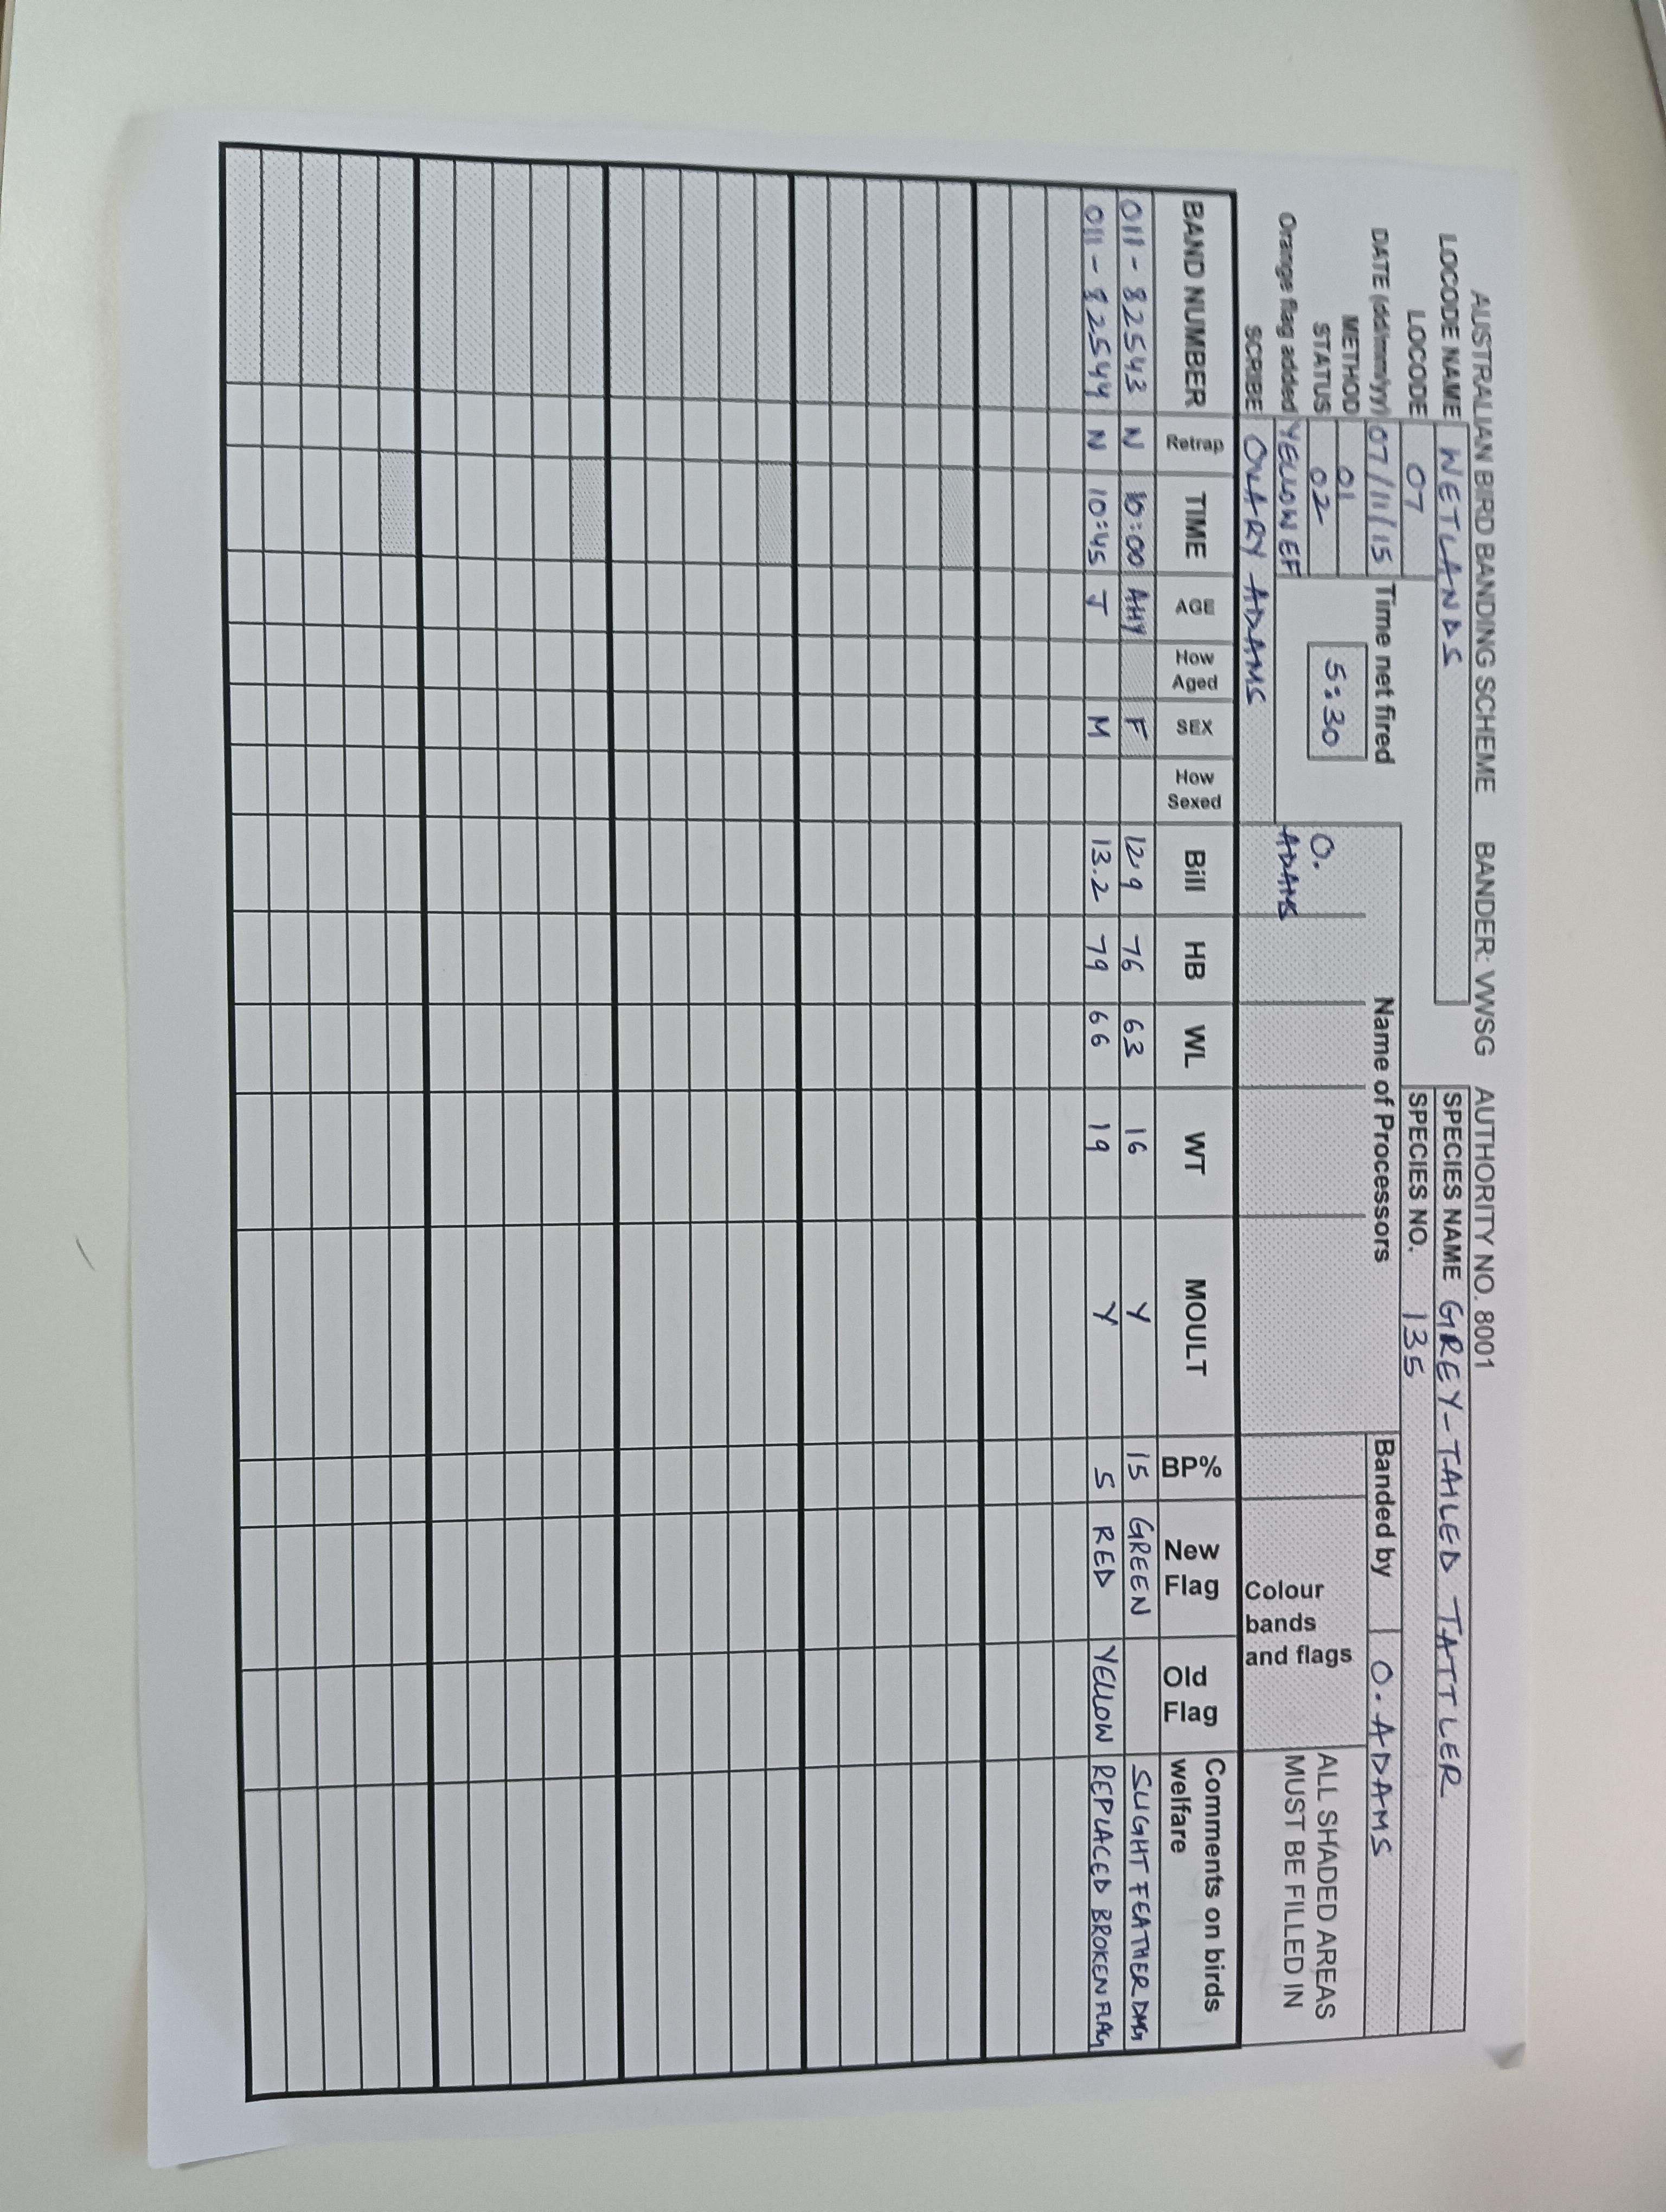BANDED_BY: (1363, 1429, 1400, 2042)
DATA: (1076, 184, 1125, 2060), (1115, 185, 1159, 2067)
DATE: (1370, 213, 1402, 575)
LOCOCODE: (1400, 289, 1437, 581)
LOCOCODE_NAME: (1430, 217, 1473, 1002)
METHOD: (1335, 301, 1370, 581)
NAME_OF_PROCESSORS: (1237, 824, 1379, 915)
ORANGE_FLAG_ADDED: (1274, 191, 1312, 584)
SCRIBE: (1234, 310, 1276, 825)
SPECIES_NAME: (1433, 1082, 1470, 2032)
SPECIES_NO: (1395, 1086, 1437, 2035)
STATUS: (1309, 303, 1340, 581)
TIME_NET_FIRED: (1299, 582, 1414, 792)
